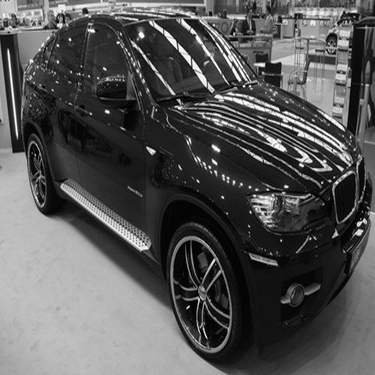car: (19, 5, 371, 363), (304, 2, 365, 56), (305, 86, 357, 124), (308, 64, 356, 90)
